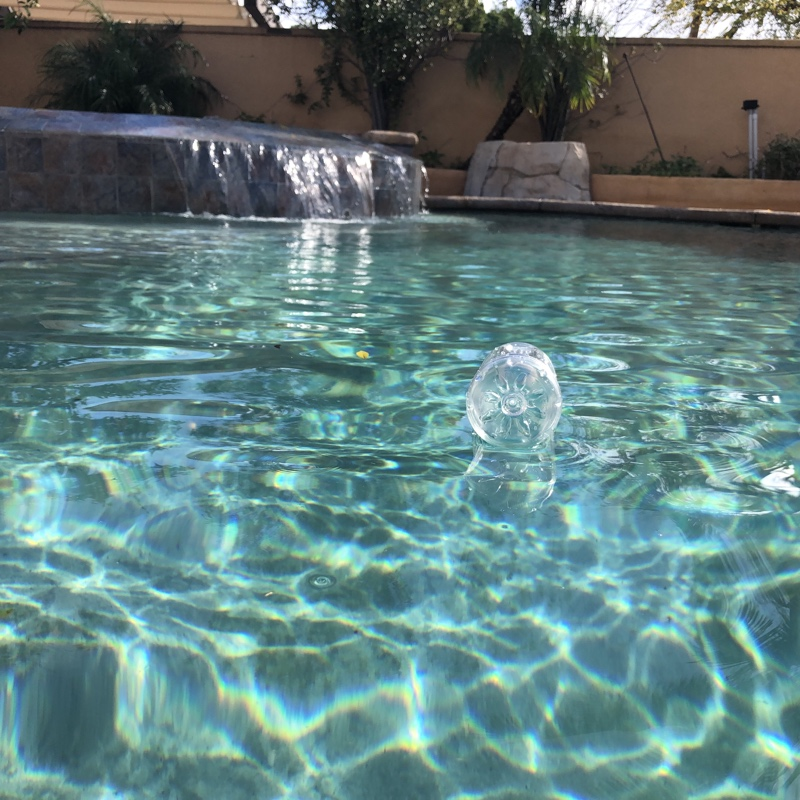Plastic Bottle: (456, 335, 569, 460)
